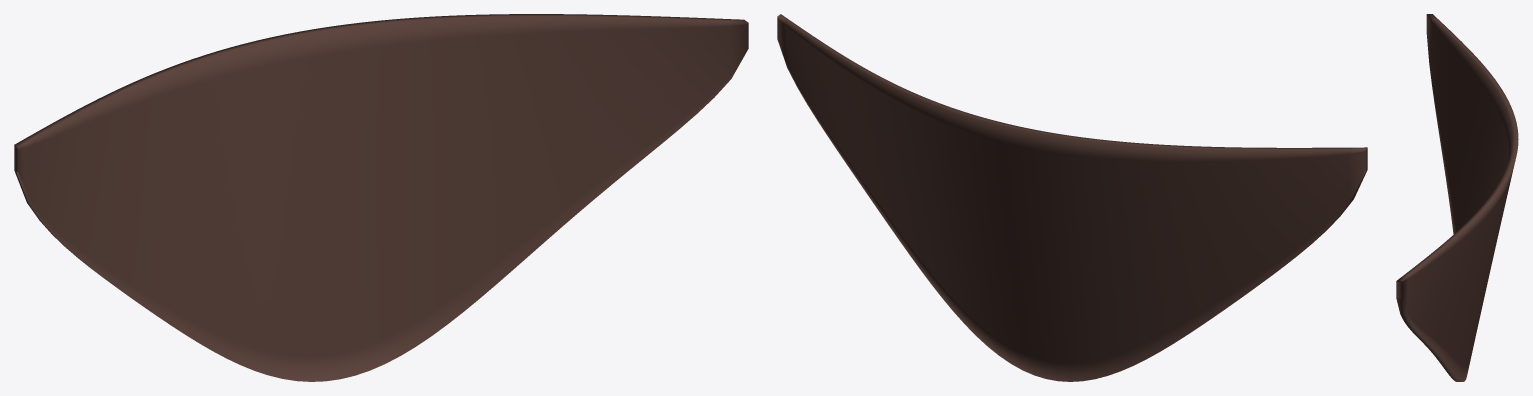
Rendered from wing_bat_01.glb.
3 renders of one model, left to right at view 1: azimuth 30°, elevation 25°; view 2: azimuth 150°, elevation 25°; view 3: azimuth 270°, elevation 25°, orthographic. The views are drawn at different scales.
Visible parts, largest first — view 1: wing_bat_01; view 2: wing_bat_01; view 3: wing_bat_01.
Part boxes in pixels (box(x1,y1,x2,y2)): wing_bat_01: box(14, 14, 748, 381); wing_bat_01: box(777, 14, 1367, 381); wing_bat_01: box(1396, 14, 1518, 381).
Size of the model in its own units: 1.15 by 0.5186 by 0.2429.
